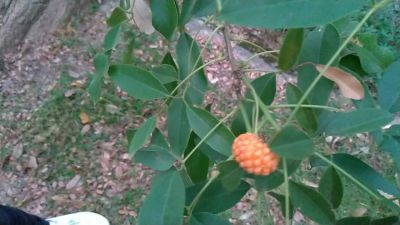eggs: (228, 130, 281, 178)
